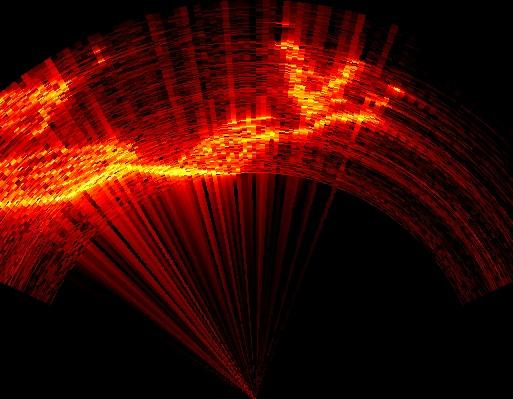shipwreck: (1, 38, 377, 210)
